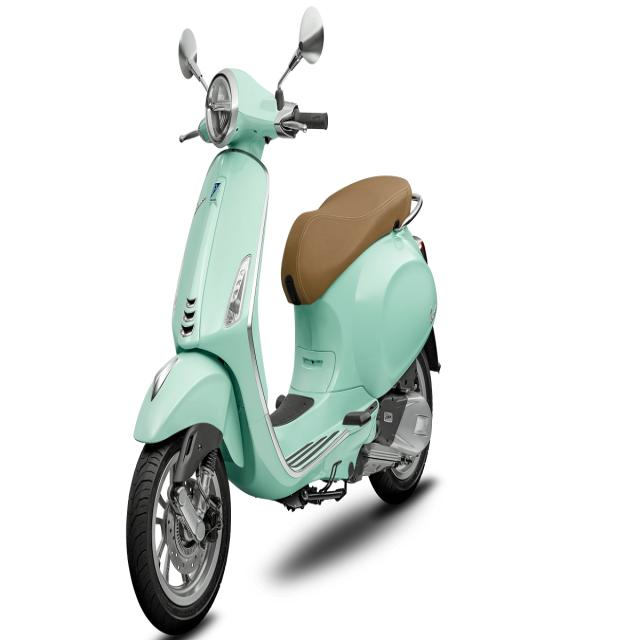Bike: (125, 9, 440, 638)
